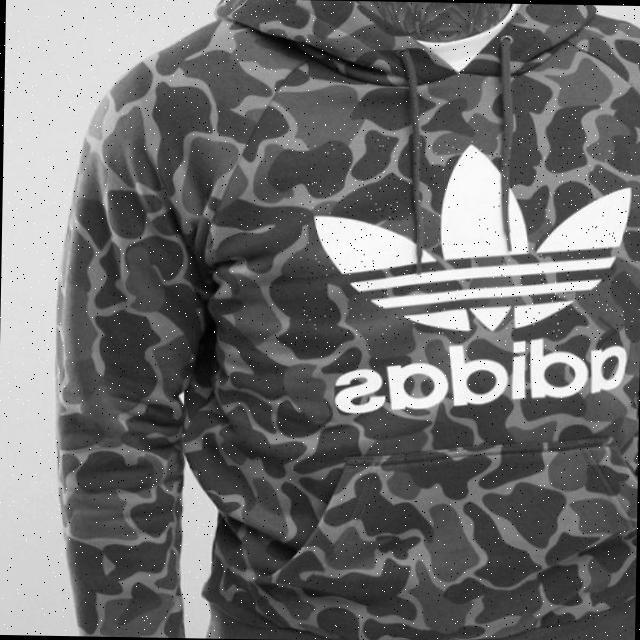Adidas: (294, 132, 640, 344)
